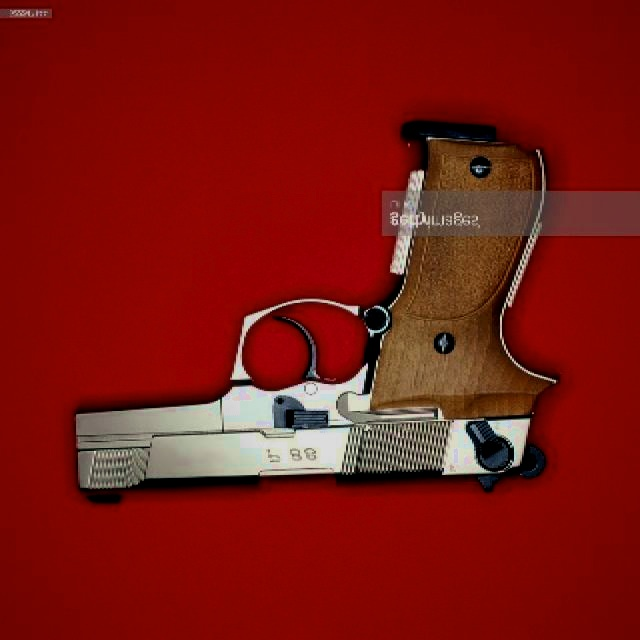gun: (58, 121, 558, 512)
